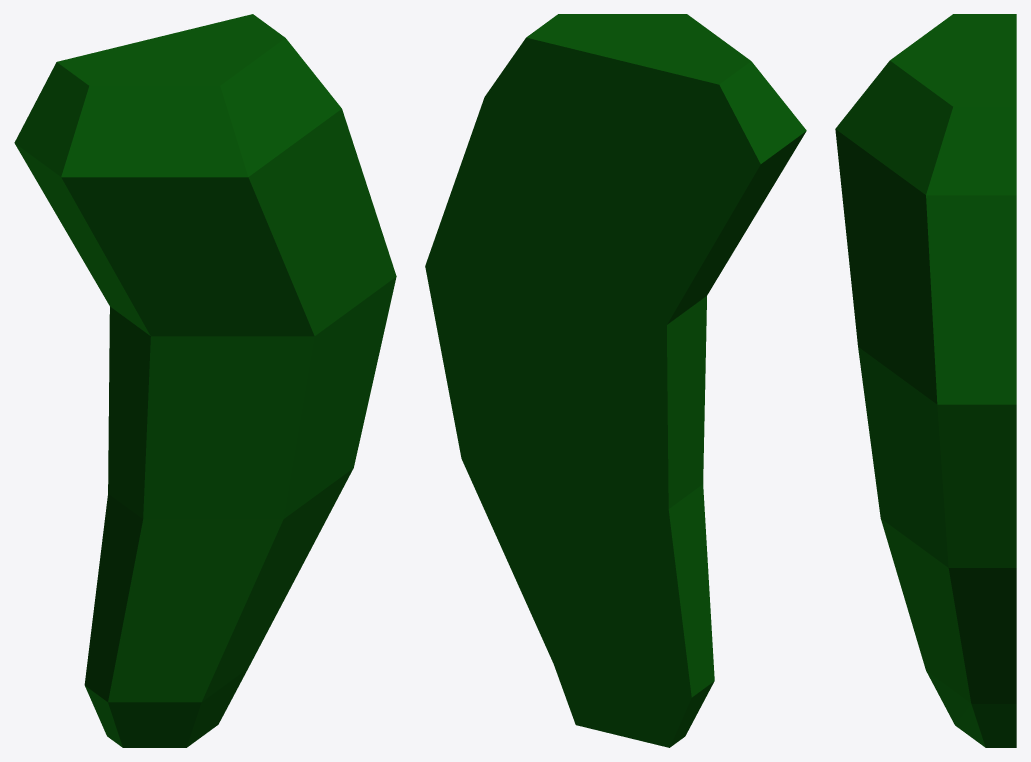
Rendered from HalfJalapeno.obj.
The picture shows the model from 3 angles, left to right: view 1: azimuth 30°, elevation 25°; view 2: azimuth 150°, elevation 25°; view 3: azimuth 270°, elevation 25°; orthographic projection. The views are drawn at different scales.
Parts seen in each view (by area): view 1: carrotBody.002; view 2: carrotBody.002; view 3: carrotBody.002.
Part boxes in pixels (x1,y1,x2,y2): carrotBody.002: (14,14,396,747); carrotBody.002: (425,14,806,747); carrotBody.002: (835,14,1016,747).
Bounding box in the file's own units: 0.0631 × 0.1214 × 0.03.
